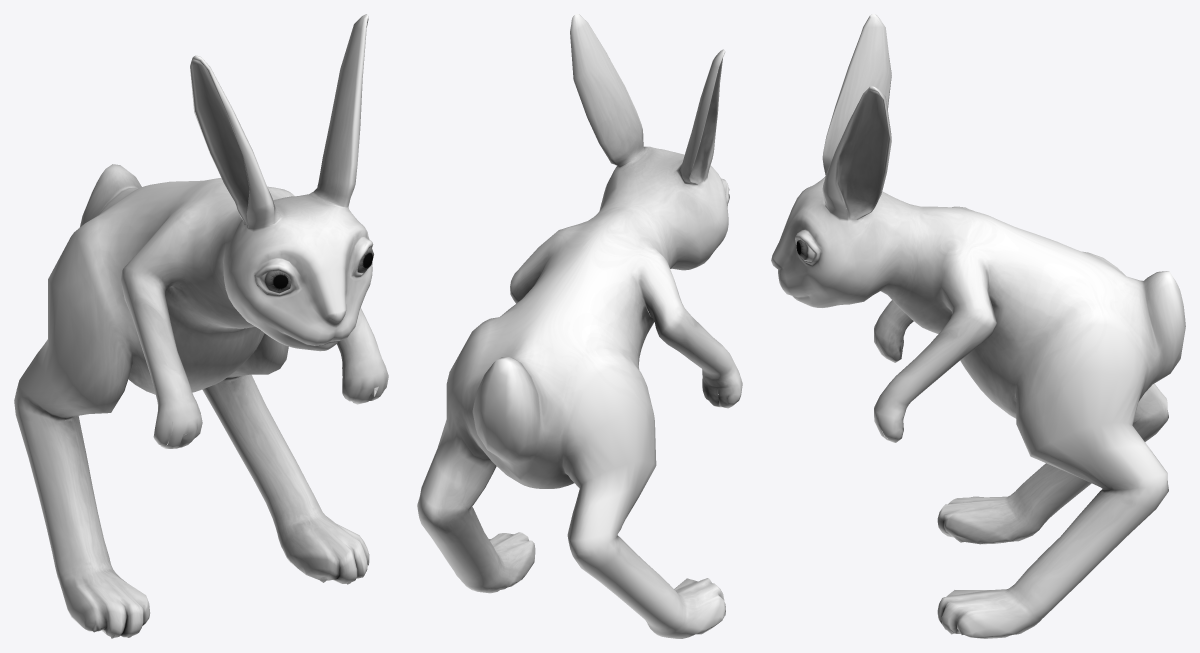
File: Experimental_Rabbit.fbx
The picture shows the model from 3 angles, left to right: view 1: azimuth 30°, elevation 25°; view 2: azimuth 150°, elevation 25°; view 3: azimuth 270°, elevation 25°; orthographic projection. The views are drawn at different scales.
Parts seen in each view (by area): view 1: BunnyLowPoly_XXX_Group32860, polySurface1; view 2: BunnyLowPoly_XXX_Group32860; view 3: BunnyLowPoly_XXX_Group32860.
Part boxes in pixels (x1,y1,x2,y2): BunnyLowPoly_XXX_Group32860: [14, 14, 388, 638]; polySurface1: [259, 246, 373, 293]; BunnyLowPoly_XXX_Group32860: [417, 14, 742, 638]; BunnyLowPoly_XXX_Group32860: [771, 14, 1185, 638].
Bounding box in the file's own units: 2.55 × 5.31 × 3.73.
Materials: 1 (1 with a texture image).
